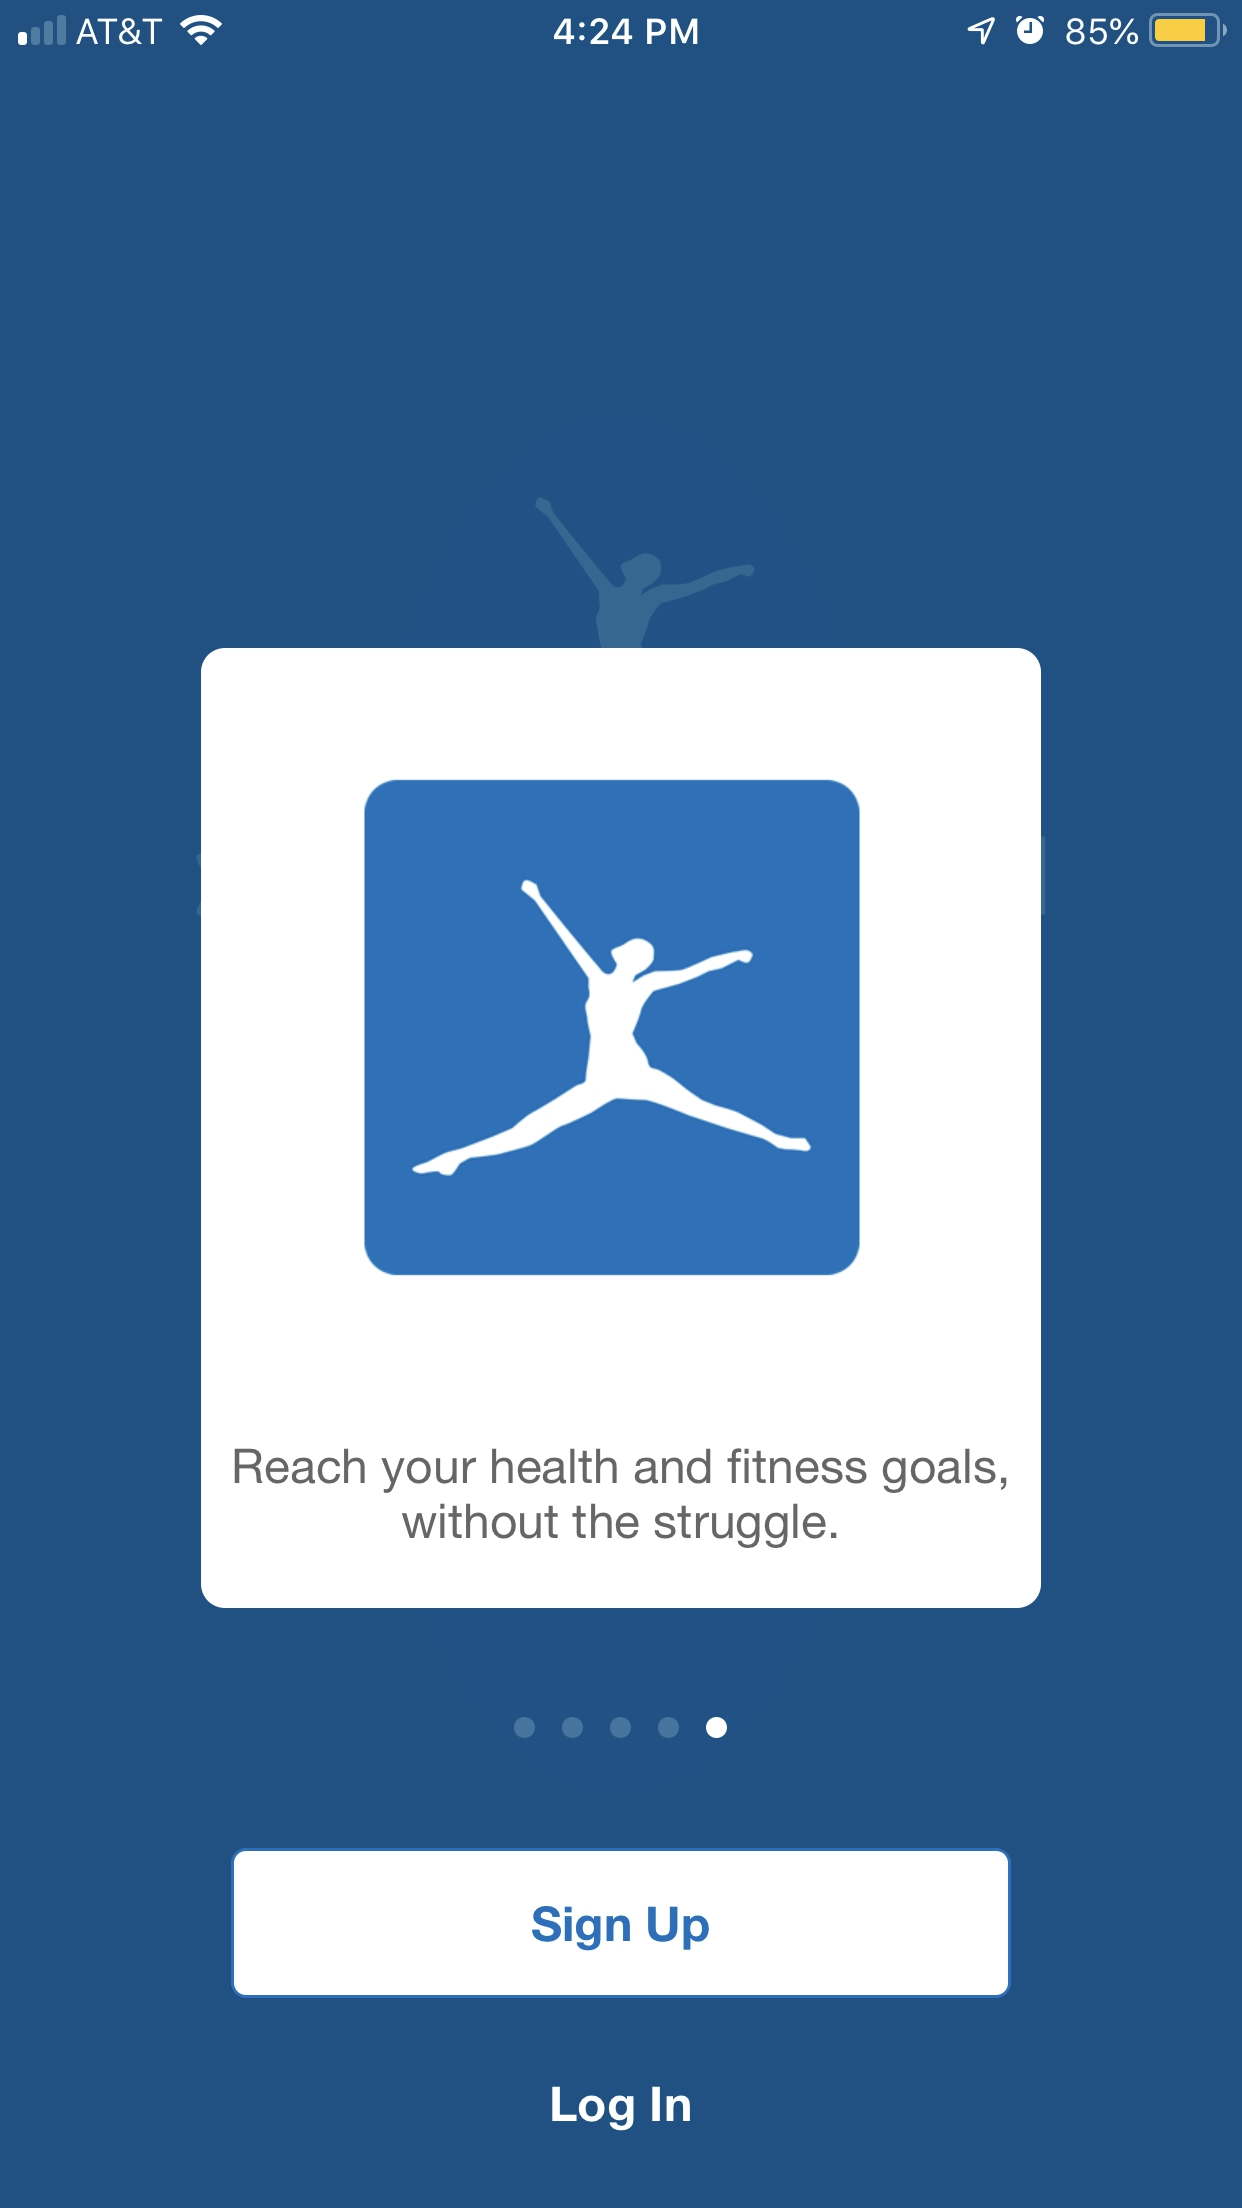Image: (364, 779, 861, 1277), (534, 497, 755, 649)
PageIndicator: (513, 1717, 728, 1739)
Text: (234, 1447, 1008, 1550), (550, 2085, 692, 2132)
TextButton: (231, 1847, 1011, 1999)
UpperTaskBar: (2, 2, 1242, 49)
